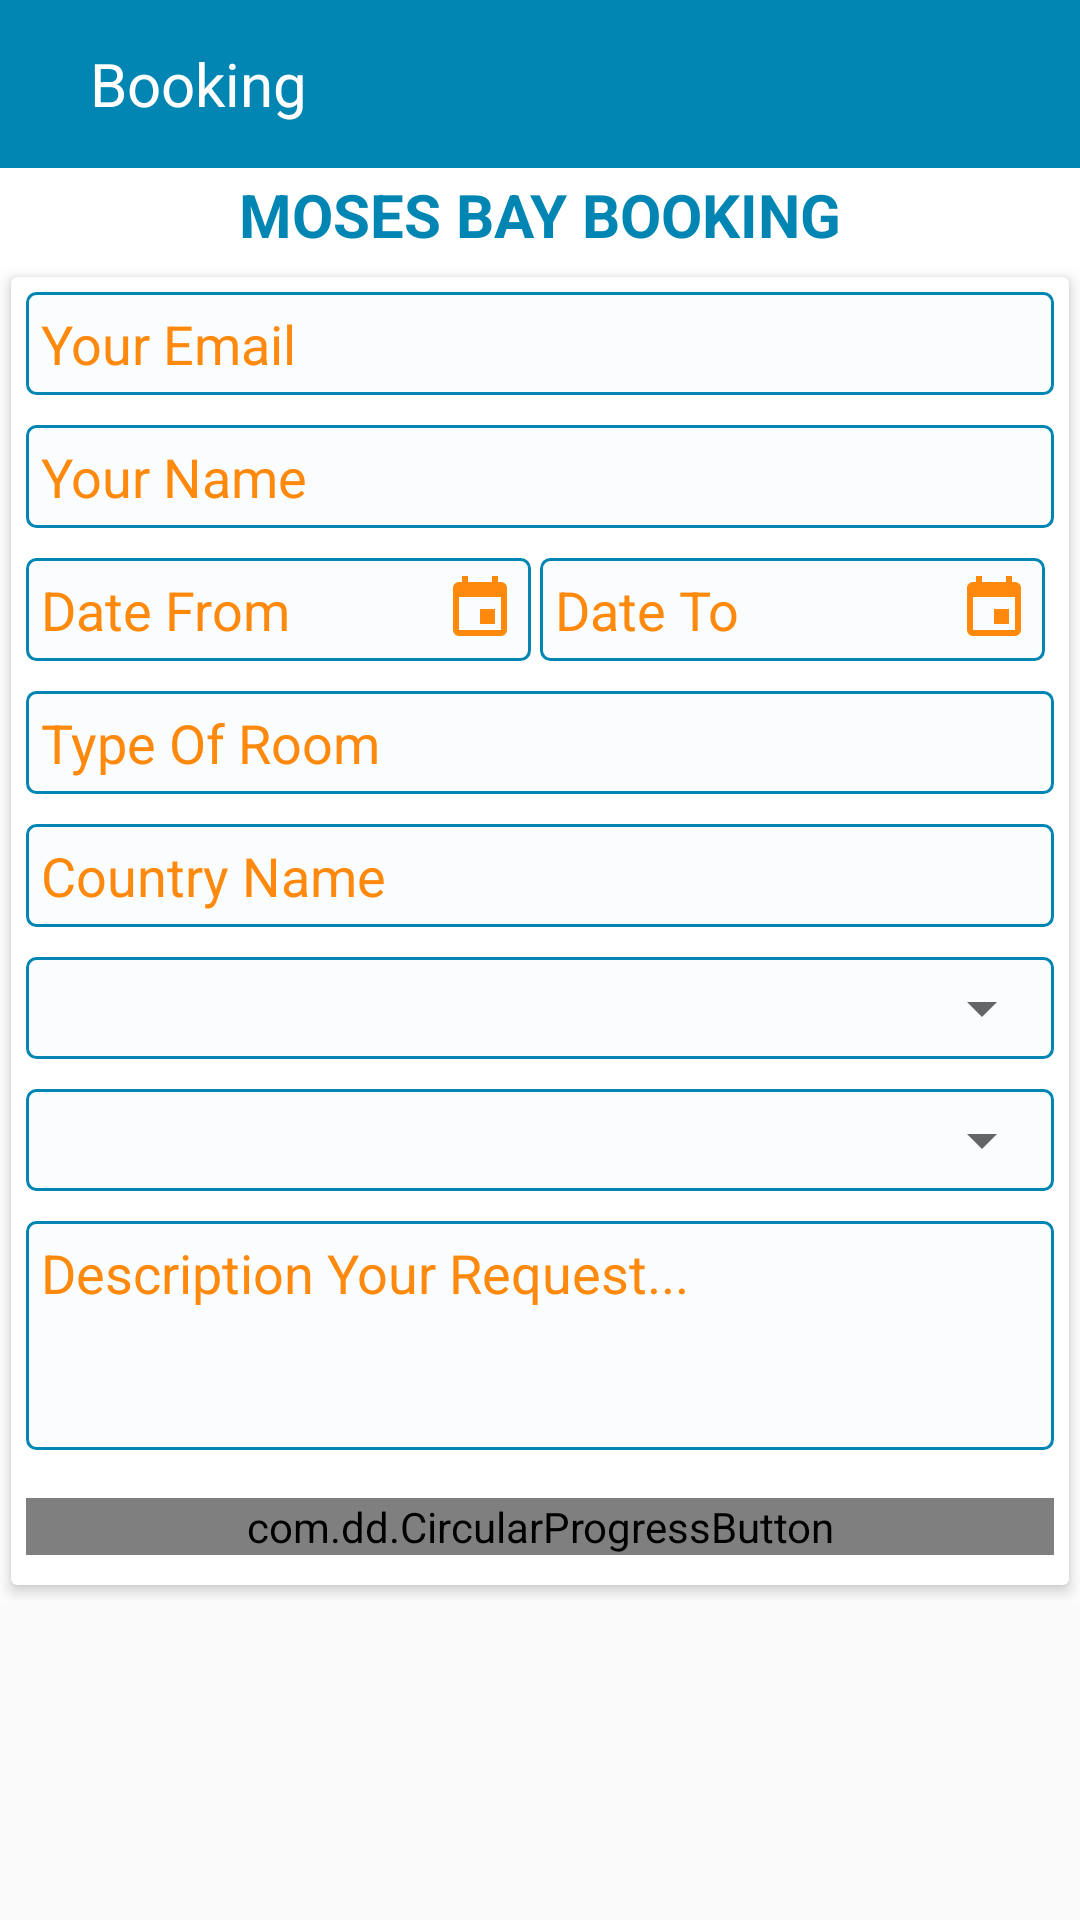

Where icons sit on this 1080 x 1920 app screen, as (x1, y1, x2, y2):
calendar: (453, 576, 507, 636), (967, 576, 1021, 636)
